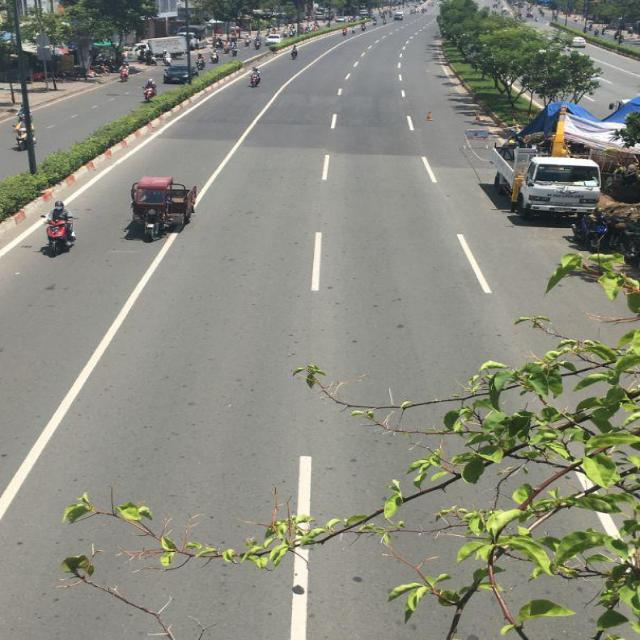car: (162, 62, 193, 83)
motorcycle: (127, 176, 194, 242), (39, 222, 76, 259), (141, 80, 155, 100), (250, 68, 263, 86)
truck: (494, 147, 601, 220)
